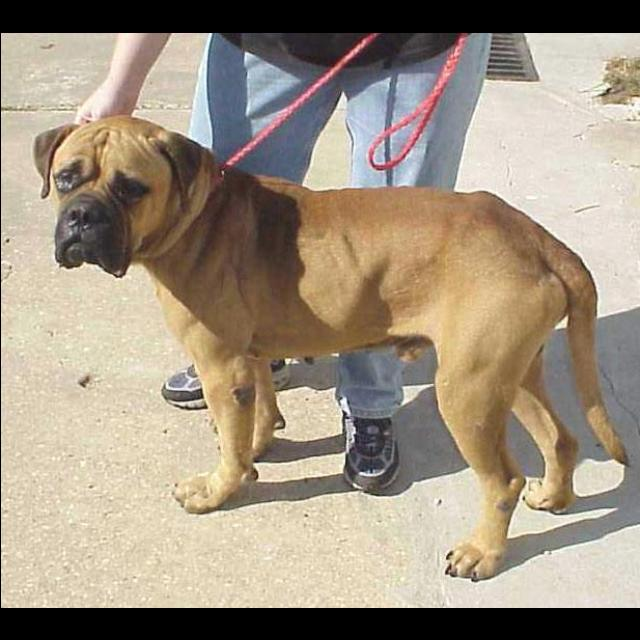bullmastiff: (32, 113, 631, 581)
person: (74, 34, 492, 495)
